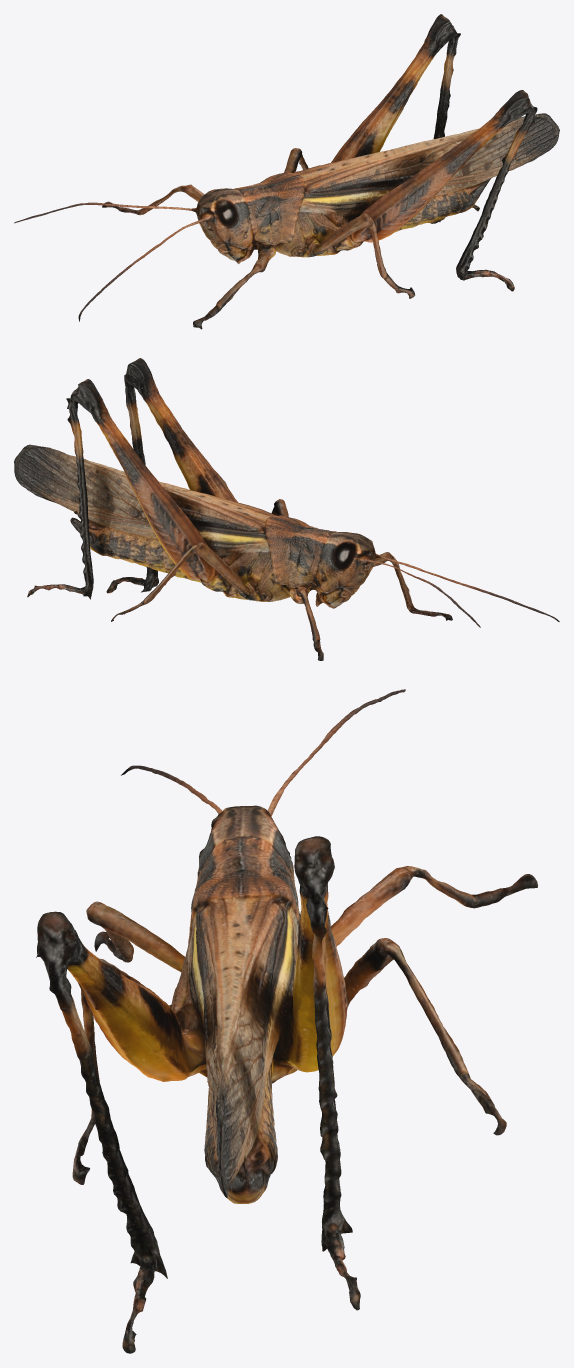
Rendered from serangga.glb.
3 views of the same model, one above another, from view 1: azimuth 30°, elevation 25°; view 2: azimuth 150°, elevation 25°; view 3: azimuth 270°, elevation 25° (orthographic). The views are drawn at different scales.
Parts seen in each view (by area): view 1: QS1410-W02-1-1_1; view 2: QS1410-W02-1-1_1; view 3: QS1410-W02-1-1_1.
Boxes of the visible parts, left/top/right/bottom form: QS1410-W02-1-1_1: left=14, top=14, right=559, bottom=329; QS1410-W02-1-1_1: left=14, top=358, right=559, bottom=660; QS1410-W02-1-1_1: left=36, top=689, right=537, bottom=1353.
Size of the model in its own units: 0.0539 by 0.0251 by 0.0232.
1 material, 1 textured.
